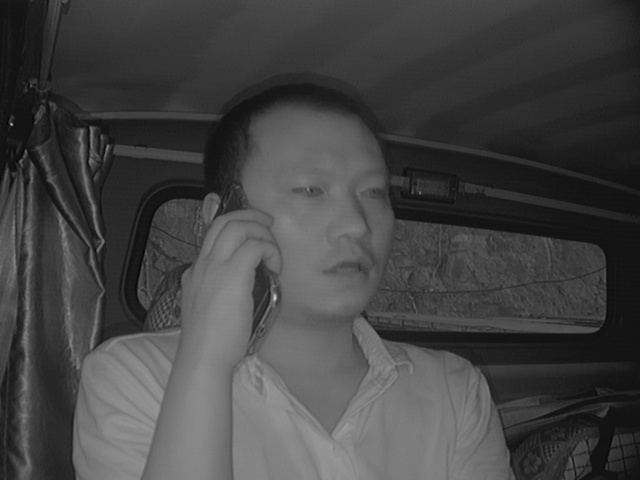hand: (177, 208, 288, 367)
